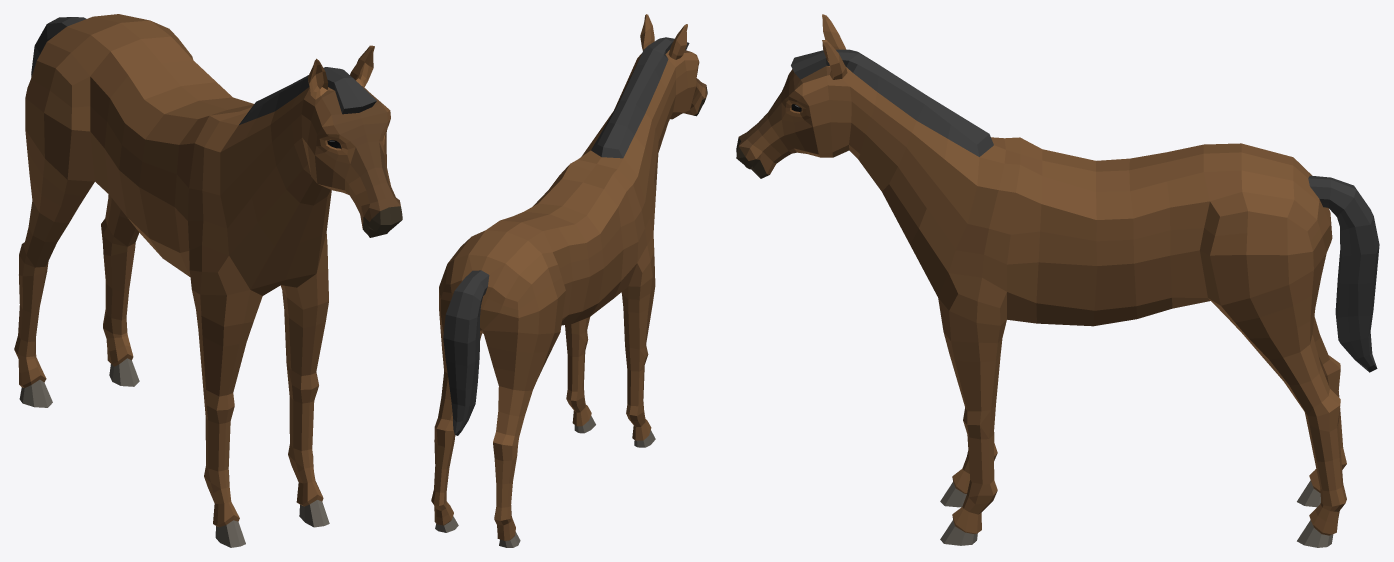
The model's file is horse.glb.
The picture shows the model from 3 angles, left to right: view 1: azimuth 30°, elevation 25°; view 2: azimuth 150°, elevation 25°; view 3: azimuth 270°, elevation 25°; orthographic projection. The views are drawn at different scales.
Visible parts, largest first — view 1: Horse; view 2: Horse; view 3: Horse.
Part boxes in pixels (box(x1,y1,x2,y2)): Horse: box(14, 14, 402, 547); Horse: box(431, 14, 707, 547); Horse: box(736, 14, 1379, 547).
Size of the model in its own units: 1.41 by 4.82 by 5.68.
